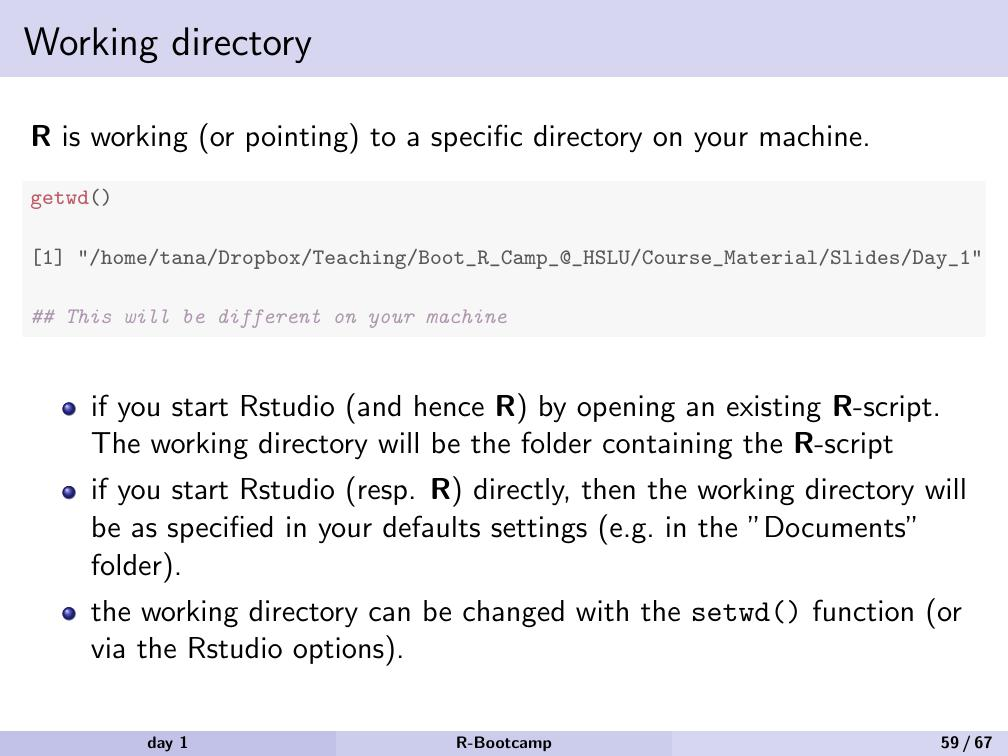Title: (15, 15, 320, 72)
